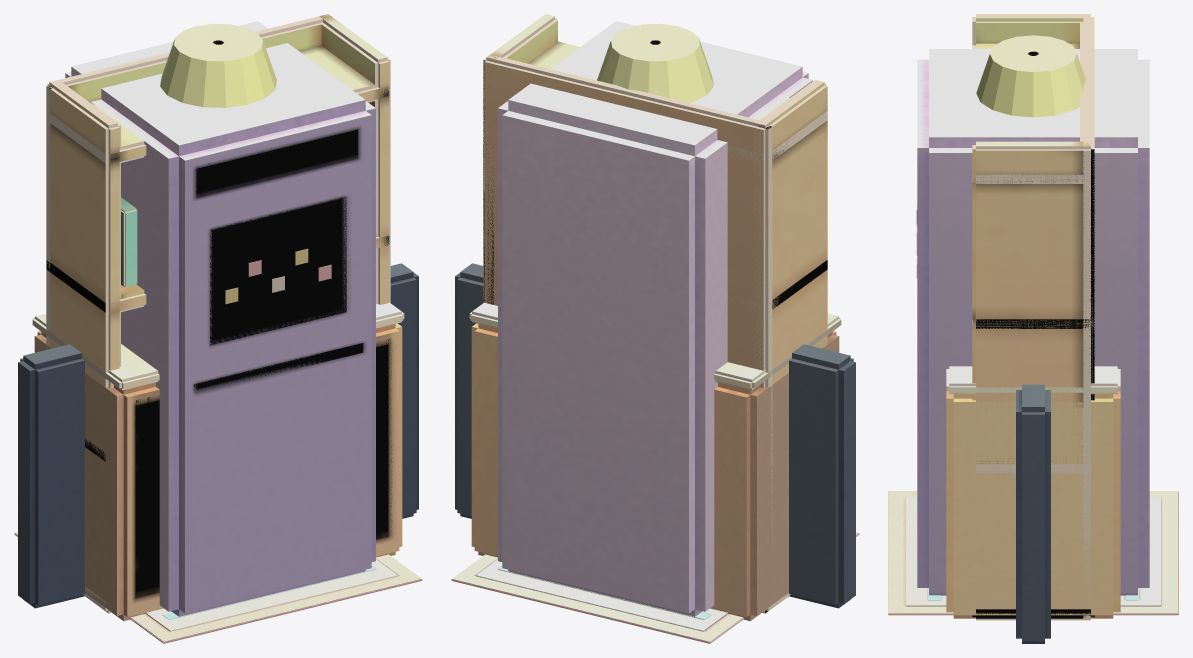
The model's file is propkit.glb.
The picture shows the model from 3 angles, left to right: view 1: azimuth 30°, elevation 25°; view 2: azimuth 150°, elevation 25°; view 3: azimuth 270°, elevation 25°; orthographic projection. The views are drawn at different scales.
Parts seen in each view (by area): view 1: arcade, bookshelf, coffee_station, office_tv, floor_lamp, rug_large; view 2: arcade, bookshelf, coffee_station, office_tv, rug_large, floor_lamp; view 3: arcade, bookshelf, coffee_station, office_tv, rug_large, floor_lamp.
Boxes of the visible parts, x1,y1,x2,y2 form: arcade: (65, 21, 375, 616); bookshelf: (46, 14, 390, 613); coffee_station: (32, 302, 404, 621); office_tv: (18, 263, 418, 608); floor_lamp: (160, 23, 276, 107); rug_large: (14, 532, 422, 643); arcade: (498, 21, 812, 616); bookshelf: (483, 14, 827, 613); coffee_station: (469, 302, 841, 621); office_tv: (455, 263, 855, 608); rug_large: (451, 532, 859, 643); floor_lamp: (597, 23, 713, 103); arcade: (916, 49, 1149, 595); bookshelf: (972, 14, 1094, 620); coffee_station: (946, 366, 1120, 618); office_tv: (1016, 384, 1050, 643); rug_large: (888, 491, 1178, 615); floor_lamp: (976, 35, 1085, 117).
Bounding box in the file's own units: 1.5 × 1.9 × 1.
Materials: 1 (1 with a texture image).
